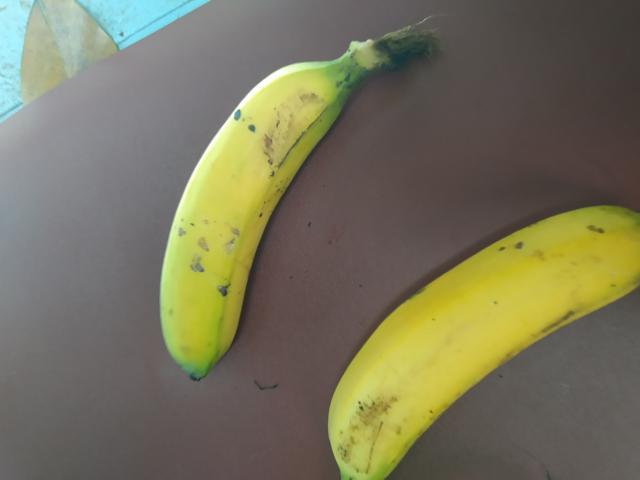freshripe: (287, 192, 639, 479)
ripe: (124, 53, 367, 374)
